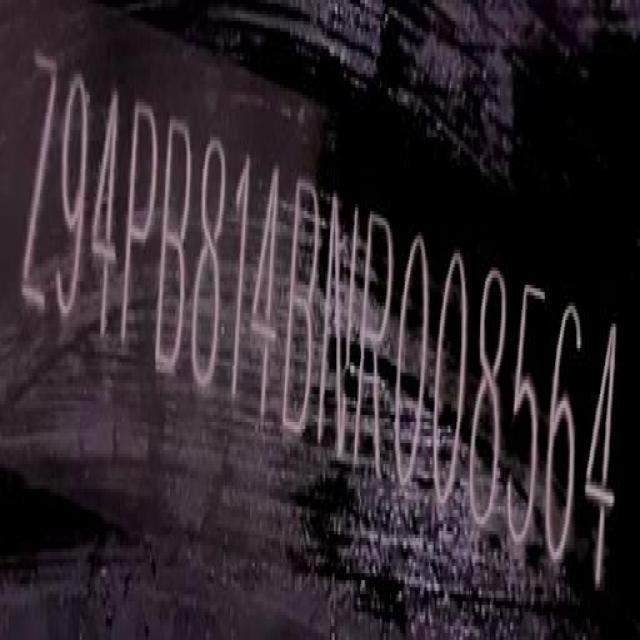0: (389, 226, 434, 498), (432, 226, 468, 524)
1: (224, 150, 258, 415)
4: (584, 318, 628, 602), (243, 162, 288, 430), (84, 78, 127, 349)
5: (507, 276, 548, 564)
6: (542, 298, 582, 581)
8: (467, 260, 510, 533), (187, 128, 230, 398)
9: (45, 61, 94, 340)
B: (151, 105, 198, 382), (281, 169, 321, 451)
N: (316, 186, 359, 479)
P: (114, 91, 164, 368)
R: (352, 202, 397, 491)
Z: (11, 45, 64, 327)
